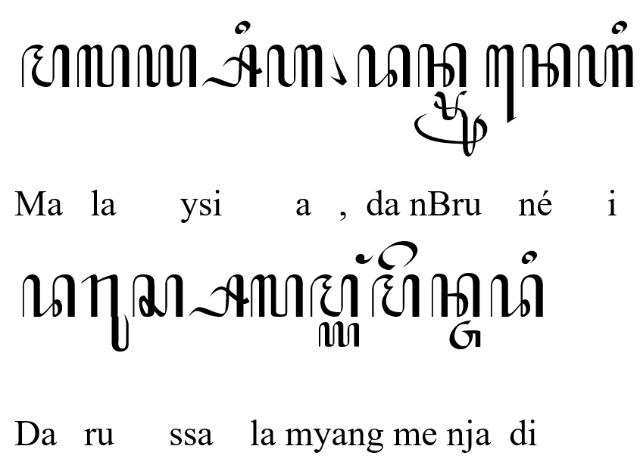Bru: (414, 90, 488, 158)
_j: (448, 320, 480, 352)
_s: (200, 43, 264, 89), (189, 274, 249, 319)
d: (356, 43, 412, 88), (490, 272, 544, 318), (22, 274, 76, 319)
e: (378, 241, 418, 271)
e1: (484, 43, 516, 123)
h: (266, 43, 324, 89), (576, 43, 634, 88)
i: (233, 18, 251, 36), (521, 250, 539, 266), (612, 20, 628, 34)
kom: (329, 51, 347, 87)
l: (76, 43, 130, 89), (250, 274, 304, 318)
m: (20, 42, 70, 88), (371, 274, 421, 320), (310, 272, 358, 318)
n: (431, 272, 482, 318), (521, 42, 571, 88), (418, 41, 467, 87)
ng: (355, 254, 375, 266)
ru: (80, 274, 130, 352)
s: (132, 274, 184, 318)
y: (137, 43, 197, 88), (318, 322, 360, 348)
